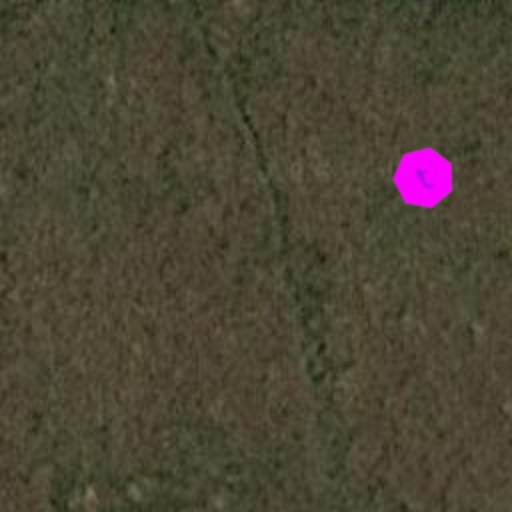heptagon: (380, 134, 468, 222)
